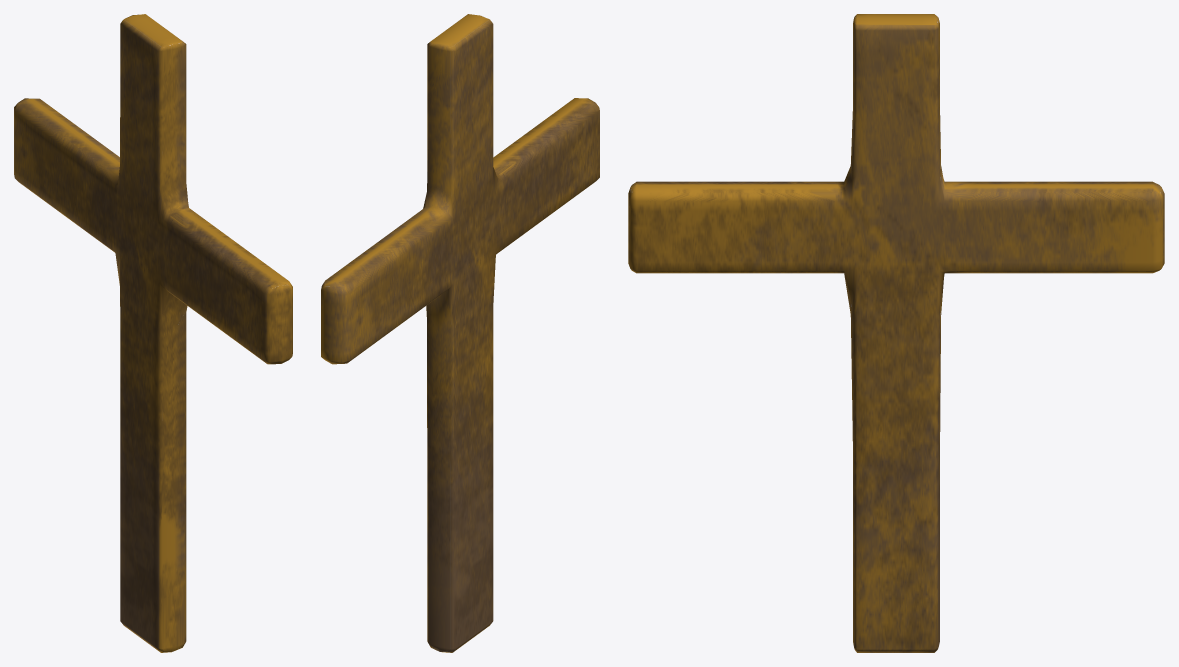
File: cross.fbx
3 renders of one model, left to right at view 1: azimuth 30°, elevation 25°; view 2: azimuth 150°, elevation 25°; view 3: azimuth 270°, elevation 25°, orthographic. The views are drawn at different scales.
Parts seen in each view (by area): view 1: cross:pCube1; view 2: cross:pCube1; view 3: cross:pCube1.
Boxes of the visible parts, box(x1,y1,x2,y2) form: cross:pCube1: box(14, 14, 292, 652); cross:pCube1: box(321, 14, 599, 652); cross:pCube1: box(628, 14, 1164, 652).
Bounding box in the file's own units: 0.6378 × 12.85 × 9.89.
1 material, 1 textured.
